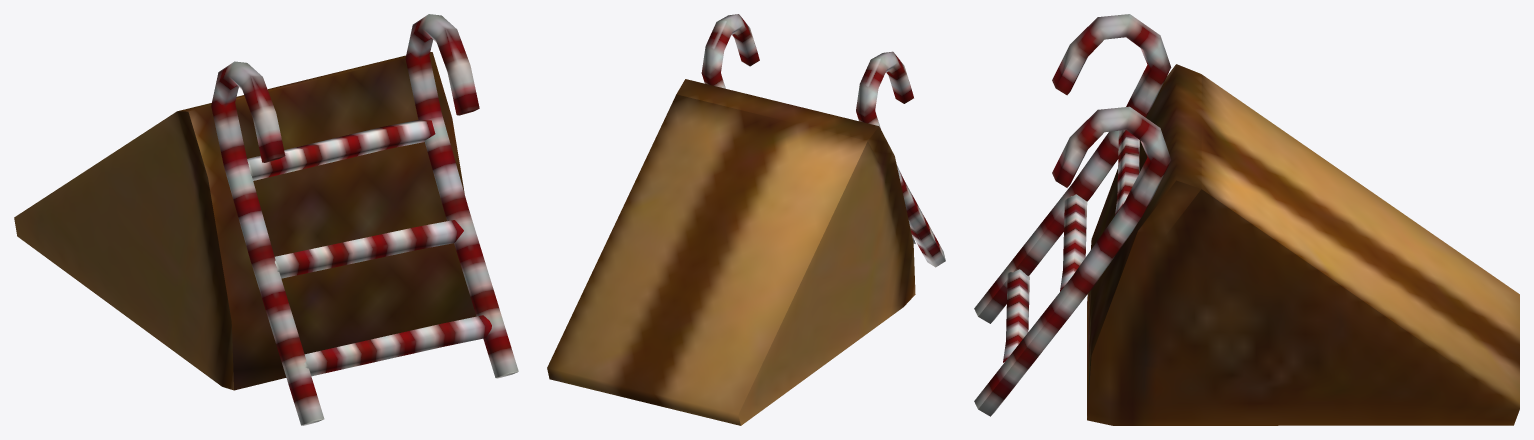
File: cakeSlide.glb
3 renders of one model, left to right at view 1: azimuth 30°, elevation 25°; view 2: azimuth 150°, elevation 25°; view 3: azimuth 270°, elevation 25°, orthographic. The views are drawn at different scales.
Visible parts, largest first — view 1: cake, candycane4, candycane3, candycane7, candycane5, candycane6; view 2: cake, candycane4, candycane3; view 3: cake, candycane3, candycane4, candycane5, candycane7, candycane6.
Boxes of the visible parts, x1,y1,x2,y2 form: cake: (14,52,476,390); candycane4: (211,61,324,425); candycane3: (405,14,518,378); candycane7: (304,315,491,376); candycane5: (275,220,463,278); candycane6: (247,120,435,180); cake: (547,79,915,425); candycane4: (856,51,945,267); candycane3: (701,14,759,88); cake: (1087,64,1519,425); candycane3: (974,106,1170,416); candycane4: (974,14,1171,323); candycane5: (1060,194,1087,291); candycane7: (1003,269,1029,362); candycane6: (1115,130,1139,215).
Bounding box in the file's own units: 4.21 × 5.18 × 8.34.
2 materials, 2 textured.
